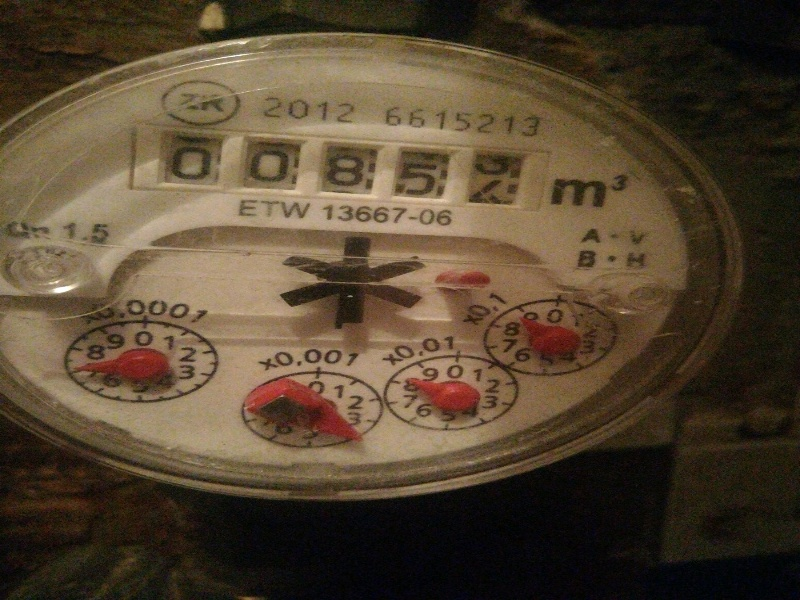dial: (131, 134, 518, 205)
